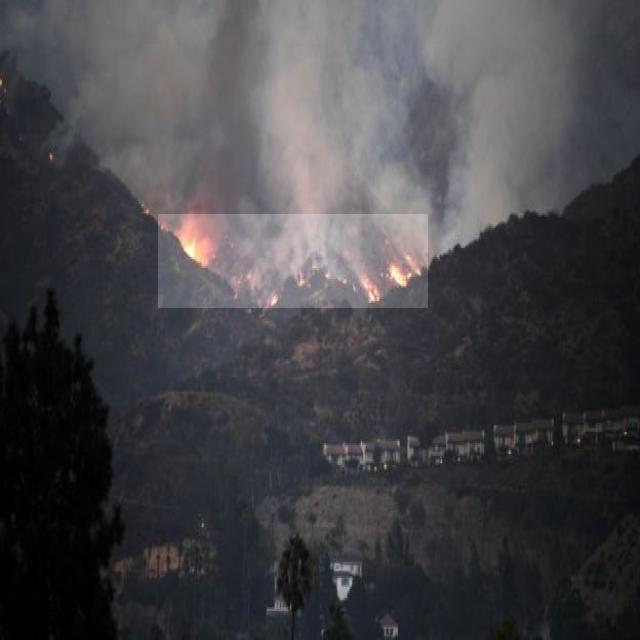Fire: (158, 214, 428, 308)
